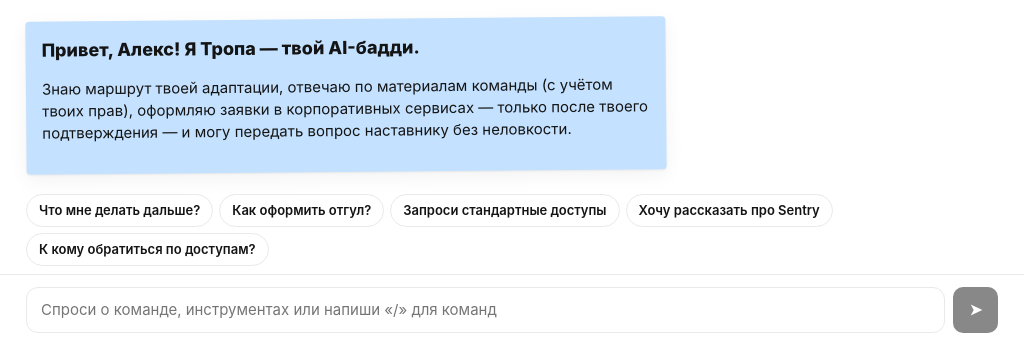
Chat › shows welcome and starter chips for an empty history
Expected: the text "Привет, Алекс! Я Тропа — твой AI-бадди." is shown, [42, 36, 420, 61]
Click the button "Как оформить отгул?": click(302, 211) [219, 194, 384, 227]
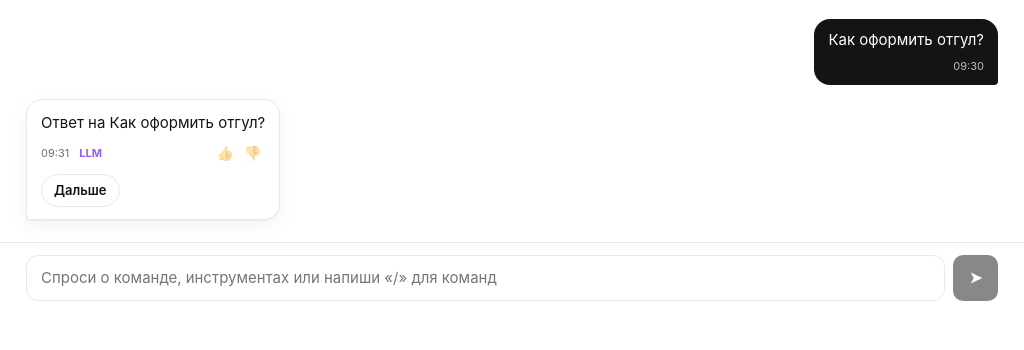
Result: the text "Ответ на Как оформить отгул?" is shown at [41, 112, 265, 134]
